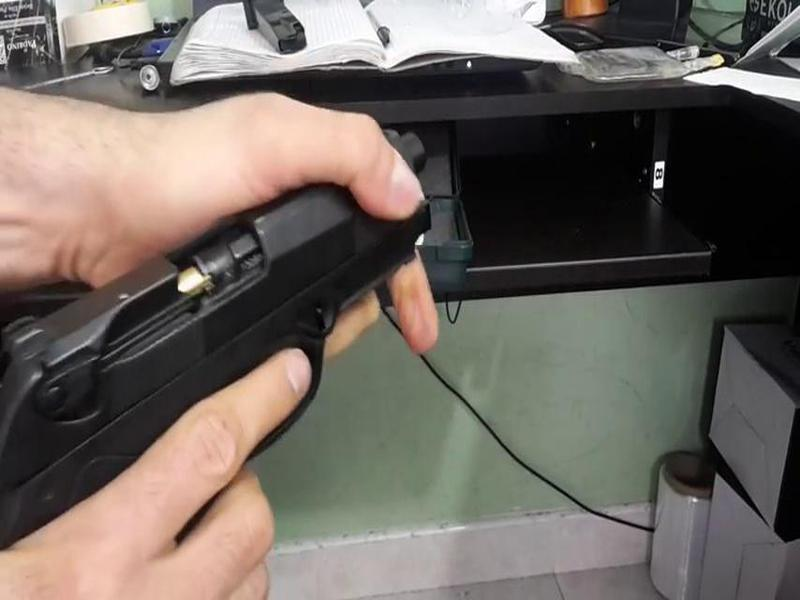Pistola: (1, 112, 437, 559)
